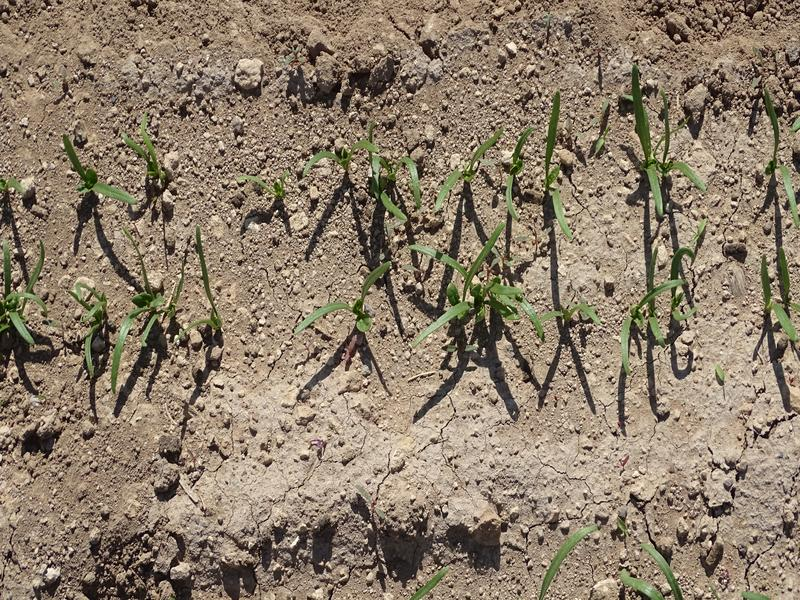Espinaca: (1, 223, 223, 374), (312, 124, 480, 220), (418, 230, 544, 341), (619, 232, 709, 365), (626, 73, 712, 208), (55, 116, 170, 209), (500, 97, 575, 235), (291, 260, 392, 340), (747, 229, 798, 349), (761, 91, 800, 222), (542, 300, 601, 330)
